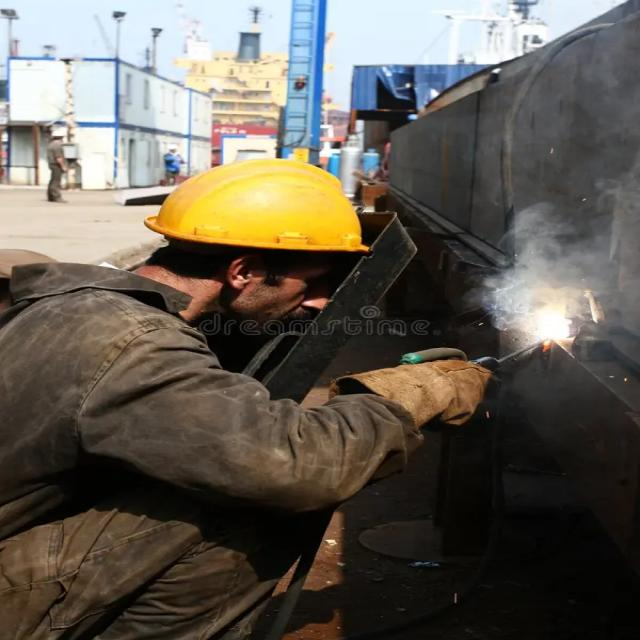welding: (525, 303, 573, 343)
